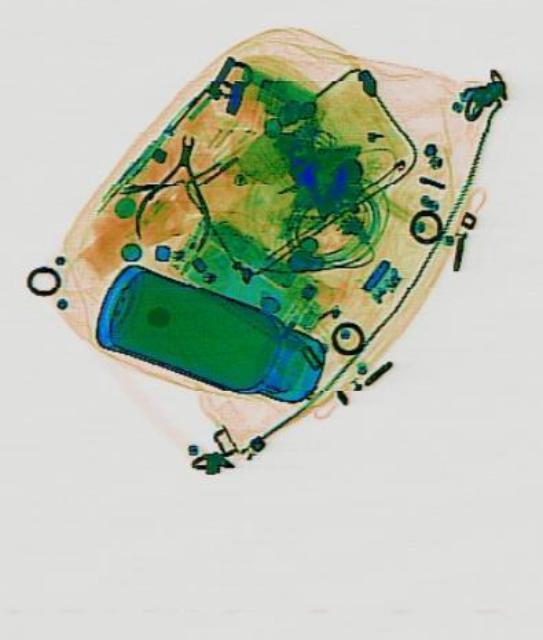Pliers: (129, 126, 220, 252)
